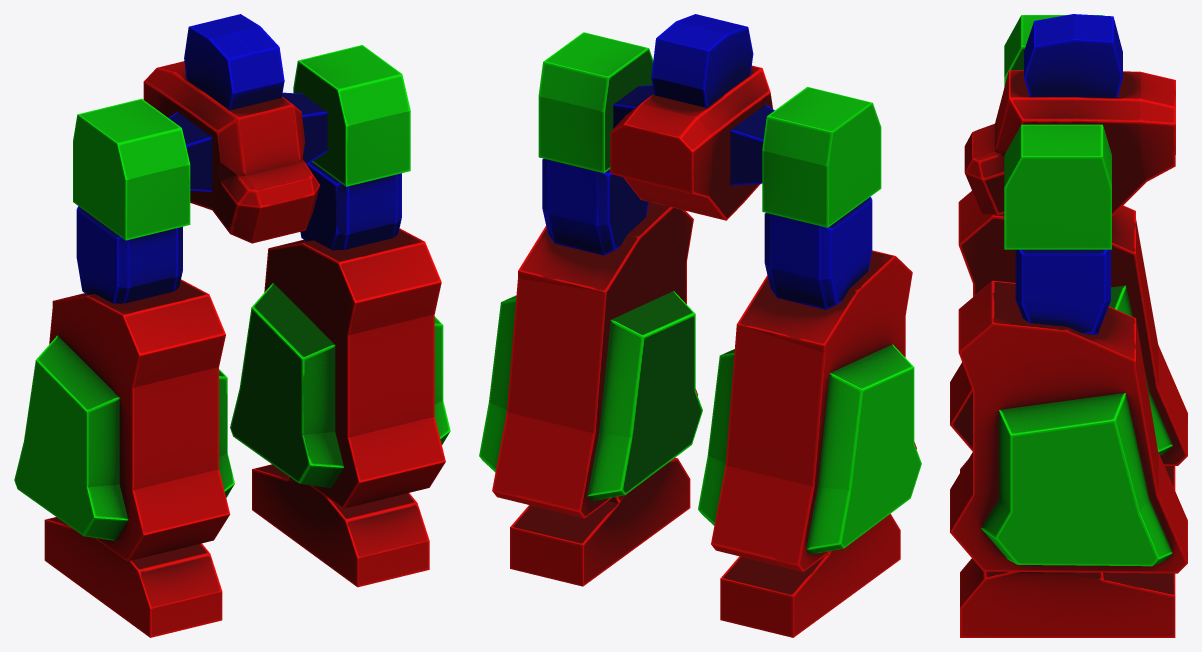
The model's file is midlegs.glb.
3 views of the same model, side by side, from view 1: azimuth 30°, elevation 25°; view 2: azimuth 150°, elevation 25°; view 3: azimuth 270°, elevation 25° (orthographic). The views are drawn at different scales.
Parts seen in each view (by area): view 1: Cube.041; view 2: Cube.041; view 3: Cube.041.
Part boxes in pixels (x1,y1,x2,y2): Cube.041: [14, 14, 450, 637]; Cube.041: [479, 14, 921, 637]; Cube.041: [950, 14, 1187, 637].
Size of the model in its own units: 3.49 by 4.97 by 1.98.
Materials: 1 (1 with a texture image).
